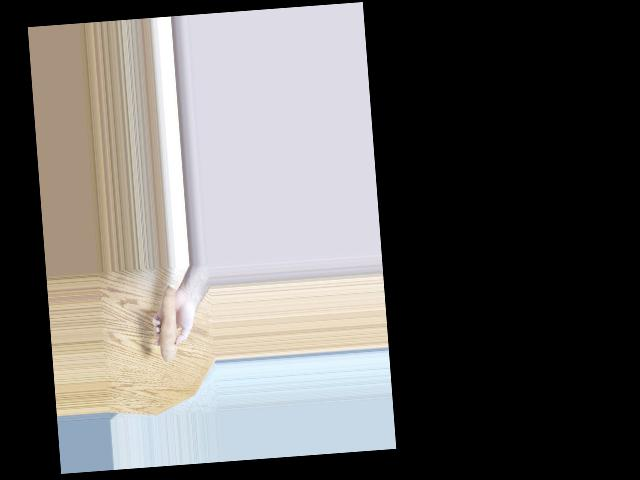sweet_potato: (150, 287, 179, 365)
